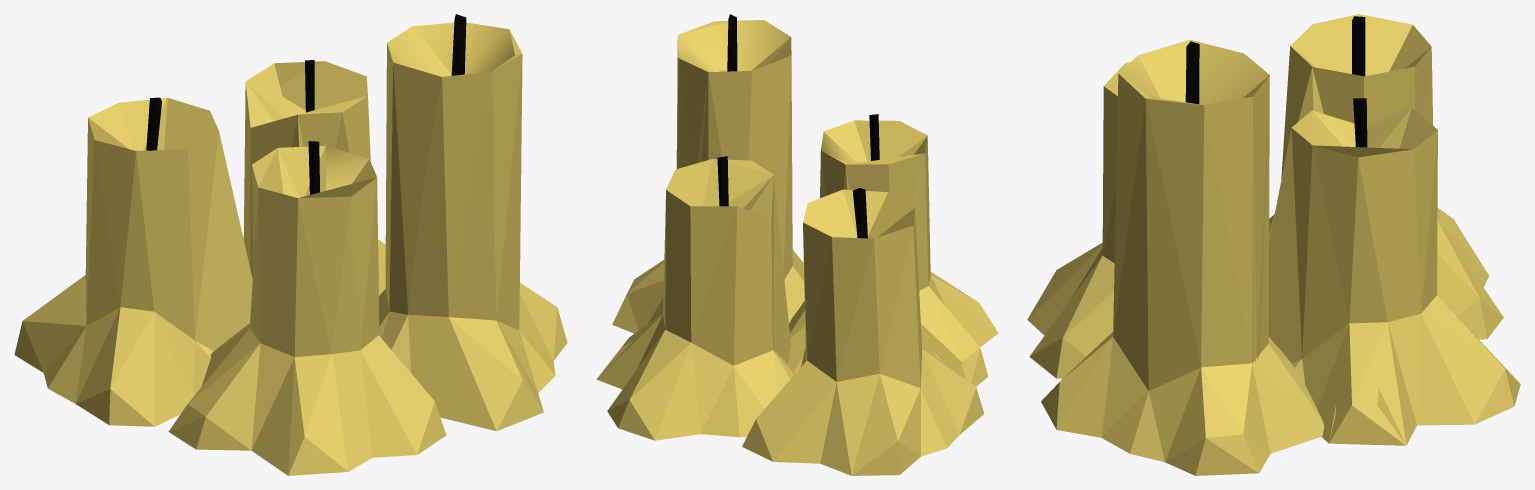
The model's file is Velas.fbx.
3 renders of one model, left to right at view 1: azimuth 30°, elevation 25°; view 2: azimuth 150°, elevation 25°; view 3: azimuth 270°, elevation 25°, orthographic. The views are drawn at different scales.
Parts seen in each view (by area): view 1: Candles; view 2: Candles; view 3: Candles.
Boxes of the visible parts, box(x1,y1,x2,y2) form: Candles: box(14, 14, 567, 475); Candles: box(596, 14, 998, 475); Candles: box(1027, 14, 1520, 475).
Bounding box in the file's own units: 1 × 0.7734 × 0.9199.
